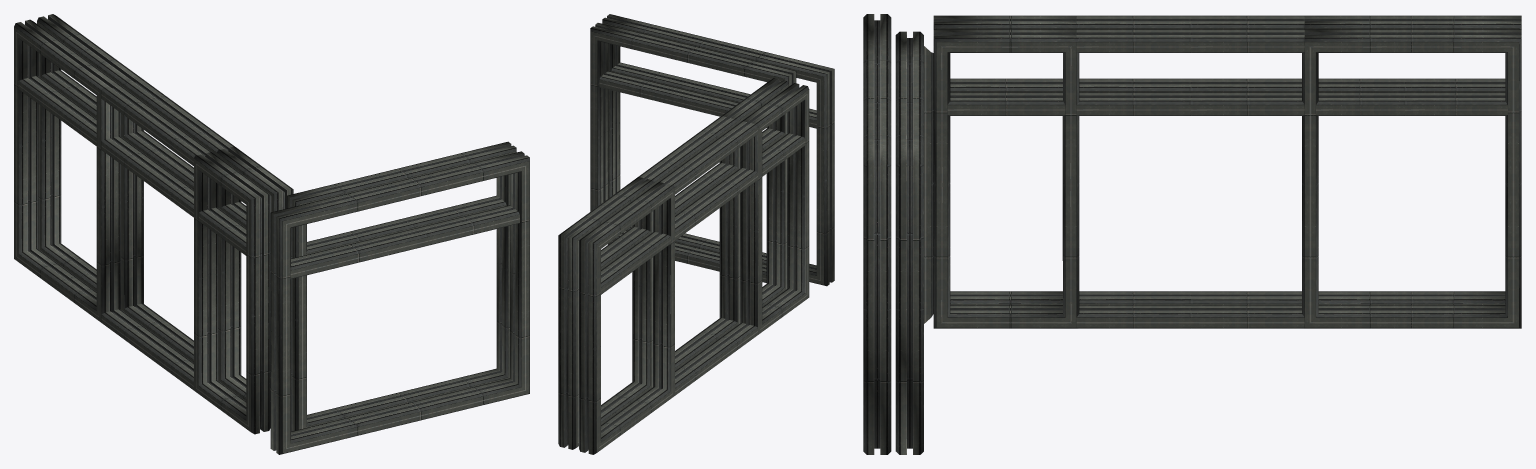
Rendered from Neon_WindowHospRoomFRame.FBX.
3 renders of one model, left to right at view 1: azimuth 30°, elevation 25°; view 2: azimuth 150°, elevation 25°; view 3: azimuth 270°, elevation 25°, orthographic. The views are drawn at different scales.
Visible parts, largest first — view 1: Neon_WindowHospRoomFRame; view 2: Neon_WindowHospRoomFRame; view 3: Neon_WindowHospRoomFRame.
Boxes of the visible parts, left/top/right/bottom form: Neon_WindowHospRoomFRame: left=14, top=14, right=529, bottom=454; Neon_WindowHospRoomFRame: left=558, top=14, right=834, bottom=454; Neon_WindowHospRoomFRame: left=863, top=14, right=1521, bottom=454.
Size of the model in its own units: 4.79 by 4.32 by 8.87.
